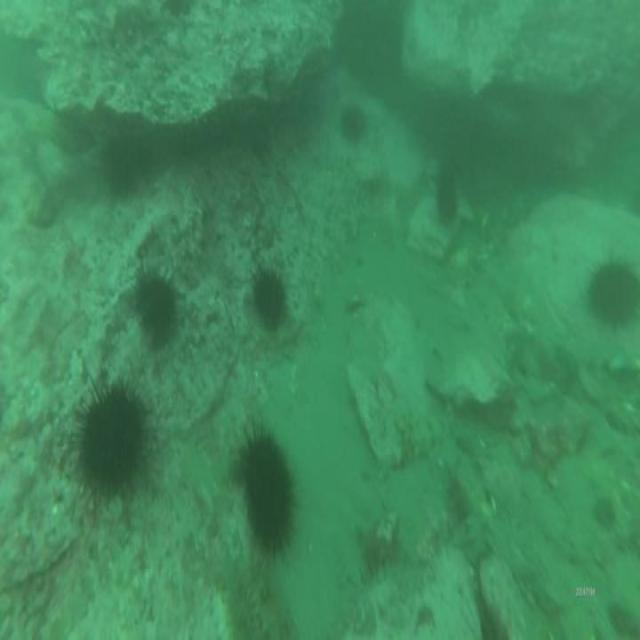echinus: (66, 362, 156, 518), (234, 416, 298, 566), (126, 259, 182, 357), (583, 243, 640, 335), (96, 131, 146, 204), (250, 259, 289, 338), (432, 168, 459, 228), (336, 101, 369, 149)
holothurian: (330, 553, 433, 634), (230, 573, 297, 640), (401, 400, 459, 464)
